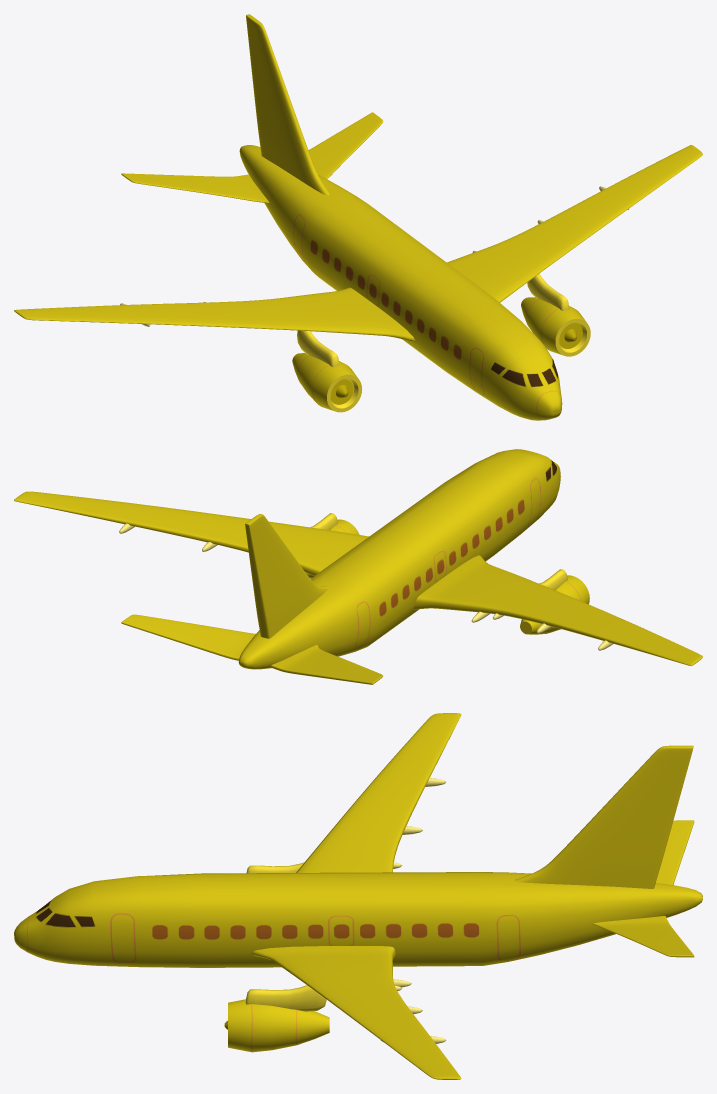
The model's file is airbus318_yellow.glb.
3 renders of one model, top to bottom at view 1: azimuth 30°, elevation 25°; view 2: azimuth 150°, elevation 25°; view 3: azimuth 270°, elevation 25°, orthographic. The views are drawn at different scales.
Parts seen in each view (by area): view 1: airbus318, wings, wing-back-vertical, turbine, wings-back-horizontal, turbine-pad; view 2: airbus318, wings, wing-back-vertical, wings-back-horizontal, turbine, turbine-pad; view 3: airbus318, wings, wing-back-vertical, turbine, wings-back-horizontal, turbine-pad.
Part boxes in pixels (x1=…): airbus318: x1=239, y1=145, x2=562, y2=420; wings: x1=14, y1=145, x2=702, y2=341; wing-back-vertical: x1=246, y1=14, x2=329, y2=195; turbine: x1=292, y1=297, x2=590, y2=412; wings-back-horizontal: x1=121, y1=112, x2=383, y2=203; turbine-pad: x1=297, y1=273, x2=569, y2=367; airbus318: x1=238, y1=449, x2=560, y2=669; wings: x1=14, y1=491, x2=702, y2=665; wing-back-vertical: x1=245, y1=514, x2=329, y2=638; wings-back-horizontal: x1=121, y1=614, x2=382, y2=684; turbine: x1=306, y1=519, x2=589, y2=634; turbine-pad: x1=310, y1=513, x2=567, y2=590; airbus318: x1=14, y1=872, x2=702, y2=967; wings: x1=251, y1=713, x2=461, y2=1079; wing-back-vertical: x1=515, y1=745, x2=693, y2=888; turbine: x1=224, y1=999, x2=329, y2=1052; wings-back-horizontal: x1=592, y1=820, x2=694, y2=957; turbine-pad: x1=245, y1=862, x2=326, y2=1011.
Bounding box in the file's own units: 4.66 × 1.44 × 3.71.
1 material, 1 textured.
